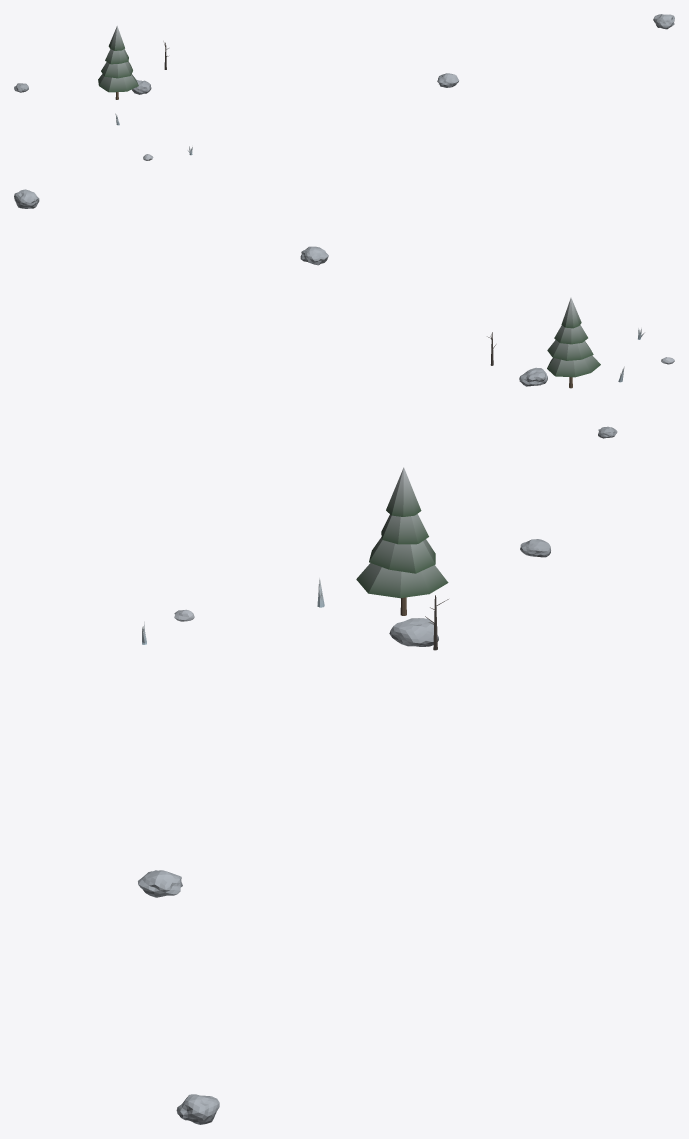
Rendered from frost_land_scatter_c23_10.glb.
3 views of the same model, one above another, from view 1: azimuth 30°, elevation 25°; view 2: azimuth 150°, elevation 25°; view 3: azimuth 270°, elevation 25° (orthographic). The views are drawn at different scales.
Parts seen in each view (by area): view 1: frost_land_scatter_c23_10; view 2: frost_land_scatter_c23_10; view 3: frost_land_scatter_c23_10.
Part boxes in pixels (x1,y1,x2,y2): frost_land_scatter_c23_10: (14,14,674,160); frost_land_scatter_c23_10: (14,189,674,438); frost_land_scatter_c23_10: (138,467,550,1124).
Size of the model in its own units: 136 by 19.93 by 42.34.
